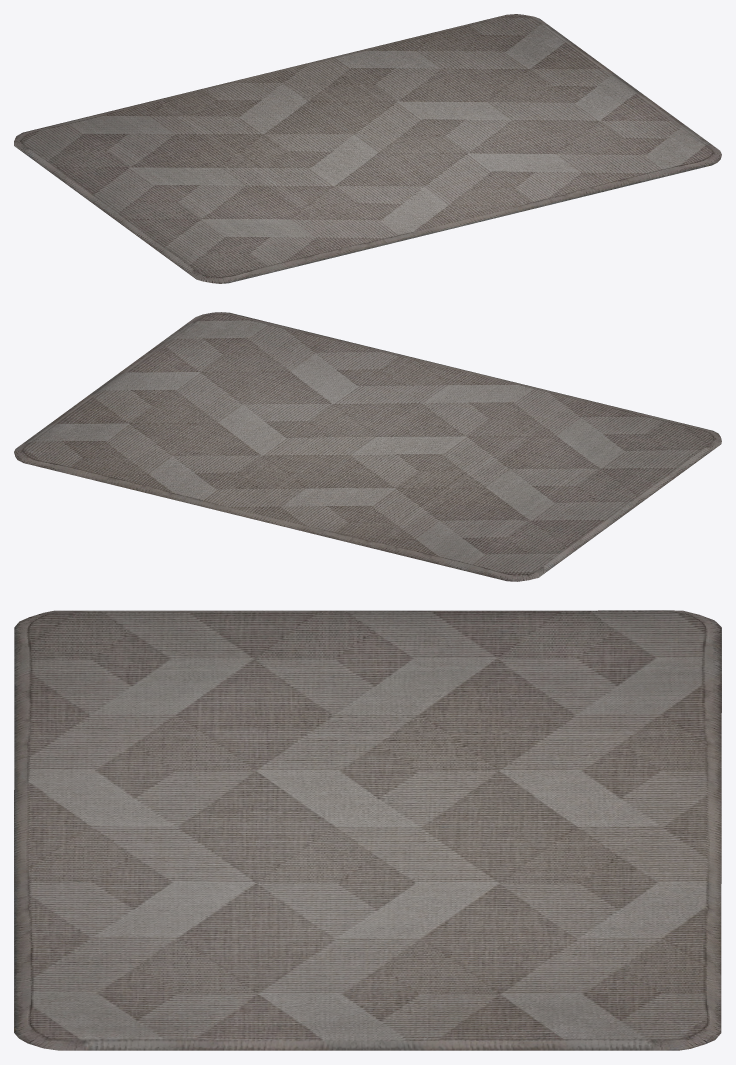
The model's file is SM_BathRug_A2.fbx.
3 views of the same model, one above another, from view 1: azimuth 30°, elevation 25°; view 2: azimuth 150°, elevation 25°; view 3: azimuth 270°, elevation 25° (orthographic). The views are drawn at different scales.
Parts seen in each view (by area): view 1: SM_BathRug_A2; view 2: SM_BathRug_A2; view 3: SM_BathRug_A2.
Boxes of the visible parts, bbox=[...] form: SM_BathRug_A2: bbox=[14, 14, 721, 283]; SM_BathRug_A2: bbox=[14, 312, 721, 581]; SM_BathRug_A2: bbox=[14, 610, 721, 1050].
Bounding box in the file's own units: 142 × 96.6 × 0.697.
Materials: 1 (1 with a texture image).
